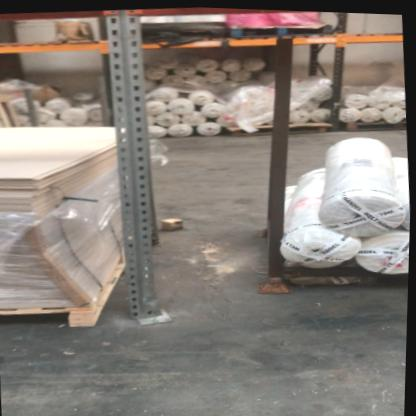vertical_damage: (128, 289, 181, 329), (173, 260, 174, 263)
